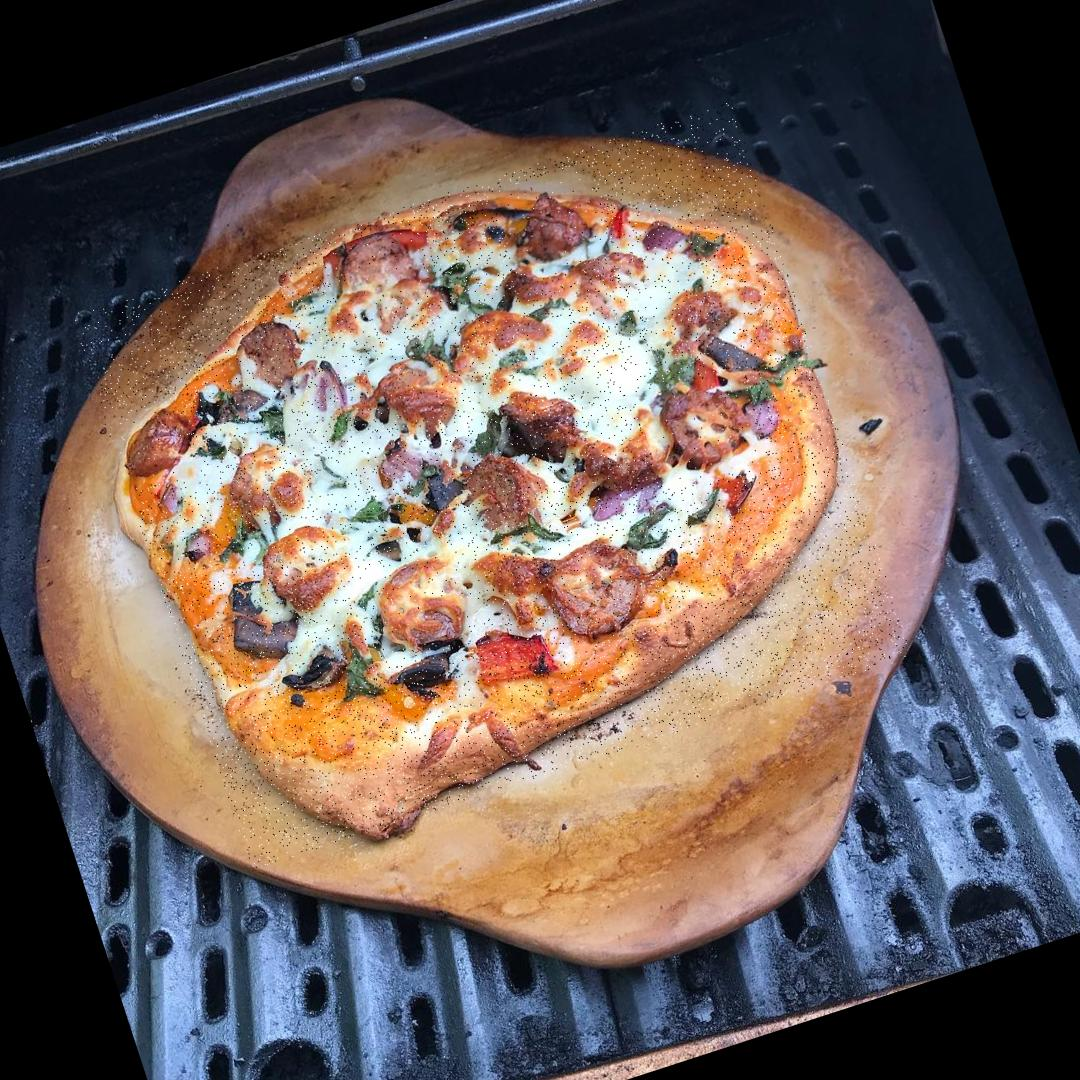Ham: (636, 367, 768, 493), (491, 162, 615, 284), (356, 542, 487, 655), (548, 532, 664, 650), (364, 330, 476, 430), (321, 222, 432, 322), (250, 519, 362, 614), (216, 310, 326, 404), (467, 271, 559, 380), (455, 439, 545, 539), (105, 400, 198, 495)
Pizza: (72, 100, 912, 870)
